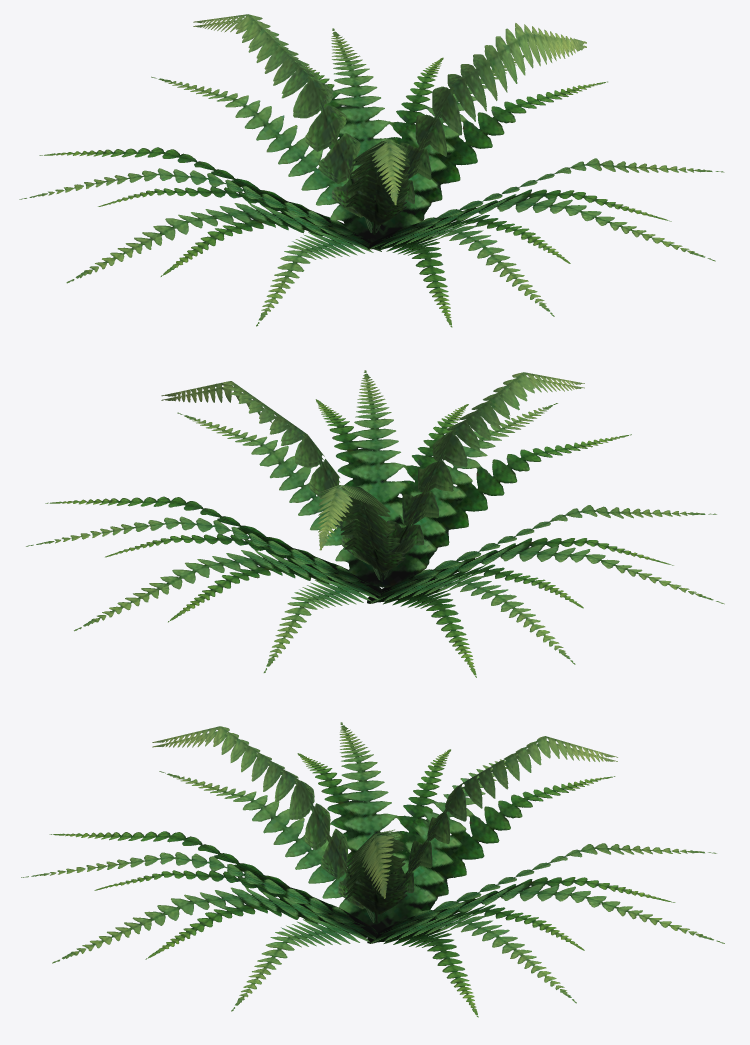
File: frst_fern_green_a1_l0.fbx
The picture shows the model from 3 angles, top to bottom: view 1: azimuth 30°, elevation 25°; view 2: azimuth 150°, elevation 25°; view 3: azimuth 270°, elevation 25°; orthographic projection.
Visible parts, largest first — view 1: mesh_node; view 2: mesh_node; view 3: mesh_node.
Boxes of the visible parts, x1=… form: mesh_node: x1=19, y1=14, x2=724, y2=327; mesh_node: x1=26, y1=370, x2=724, y2=677; mesh_node: x1=21, y1=722, x2=724, y2=1017.
Size of the model in its own units: 2.49 by 0.7052 by 2.42.
